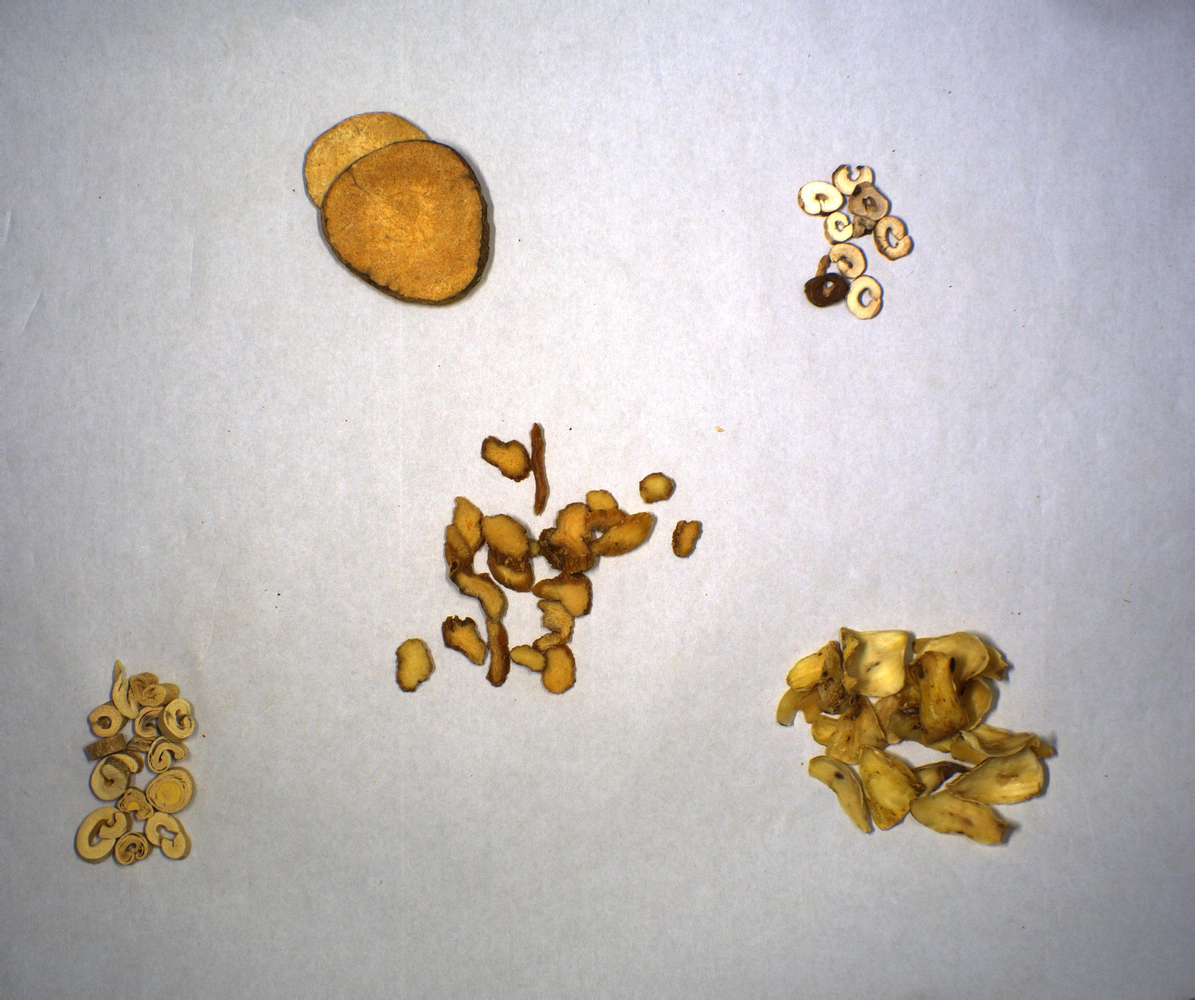baihe: (773, 625, 1061, 851)
baixianpi: (72, 661, 199, 873)
mudanpi: (798, 163, 915, 324)
yuzhu: (394, 420, 708, 699)
zexie: (304, 112, 495, 311)
